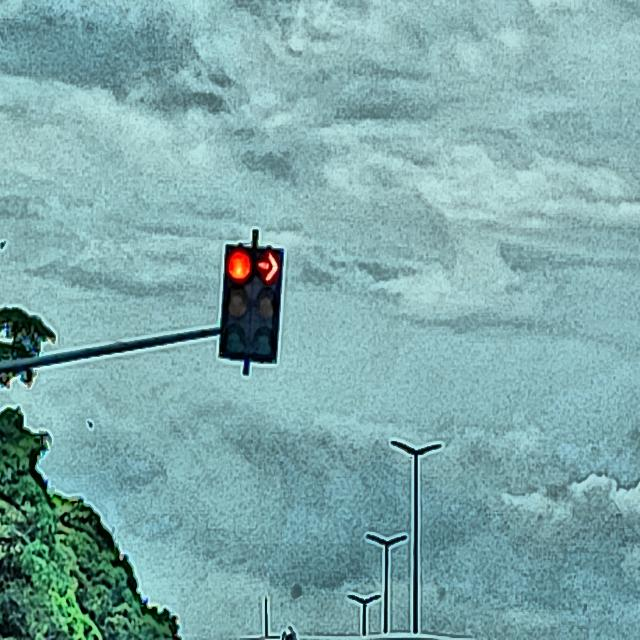red: (248, 247, 284, 363), (218, 244, 253, 359)
